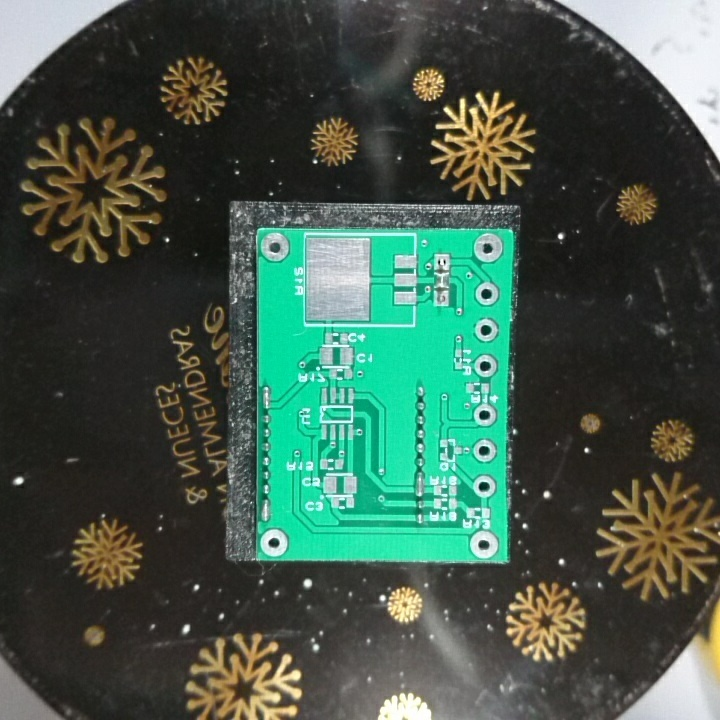F: (470, 230, 506, 266), (259, 230, 293, 266), (467, 527, 500, 560), (259, 528, 292, 559), (473, 279, 501, 309), (471, 472, 499, 502), (470, 402, 501, 429), (471, 352, 500, 380), (470, 437, 499, 464), (473, 316, 500, 344), (431, 286, 453, 311), (431, 251, 451, 272)
P: (413, 468, 428, 500), (259, 384, 273, 413), (258, 496, 273, 523)
